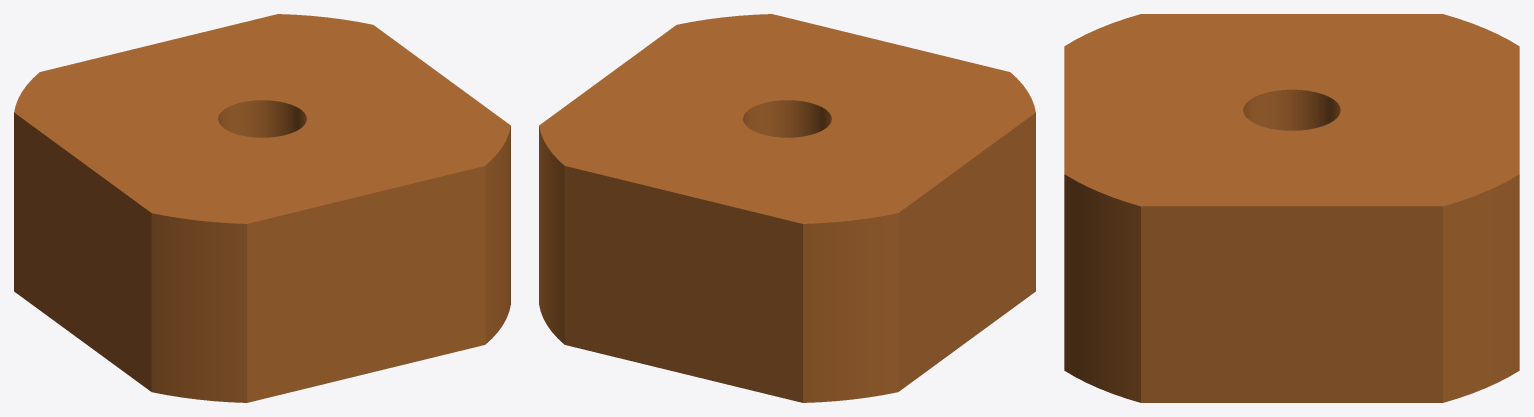
The picture shows the model from 3 angles, left to right: view 1: azimuth 30°, elevation 25°; view 2: azimuth 150°, elevation 25°; view 3: azimuth 270°, elevation 25°; orthographic projection. The views are drawn at different scales.
Visible parts, largest first — view 1: stator; view 2: stator; view 3: stator.
Part boxes in pixels (x1,y1,x2,y2): stator: [14, 14, 510, 402]; stator: [539, 14, 1035, 402]; stator: [1064, 14, 1519, 402].
Size of the model in its own units: 0.042 by 0.02 by 0.042.
